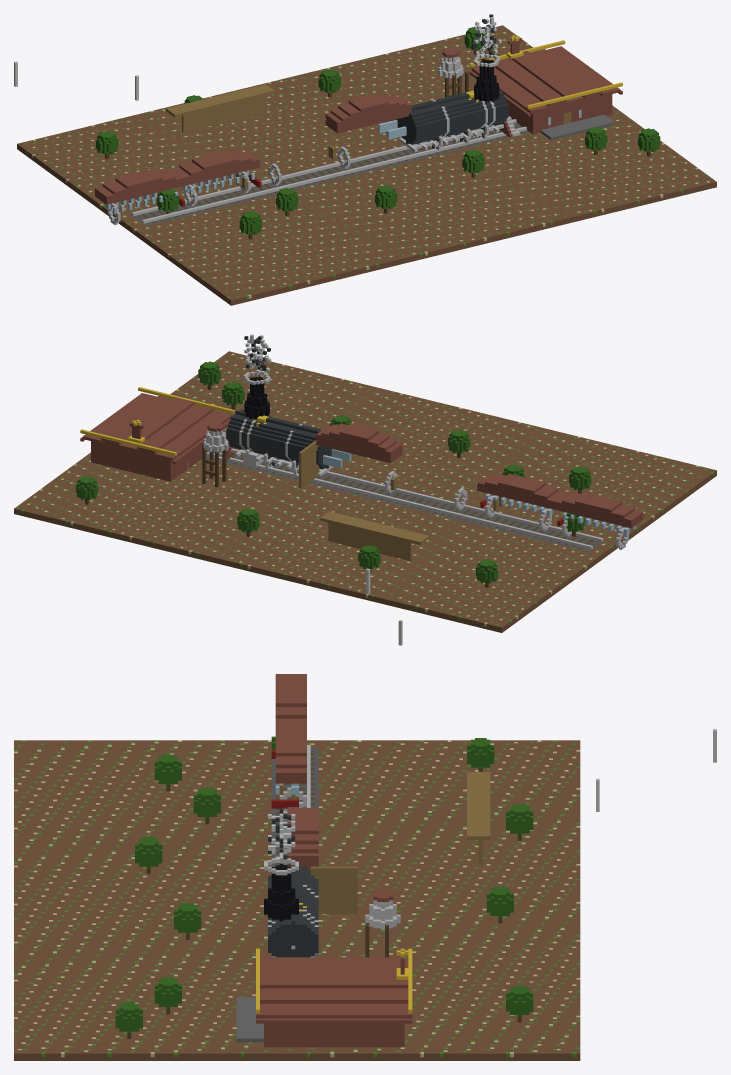
3 views of the same model, one above another, from view 1: azimuth 30°, elevation 25°; view 2: azimuth 150°, elevation 25°; view 3: azimuth 270°, elevation 25° (orthographic). The views are drawn at different scales.
Bounding box in the file's own units: 200 × 47 × 180.
